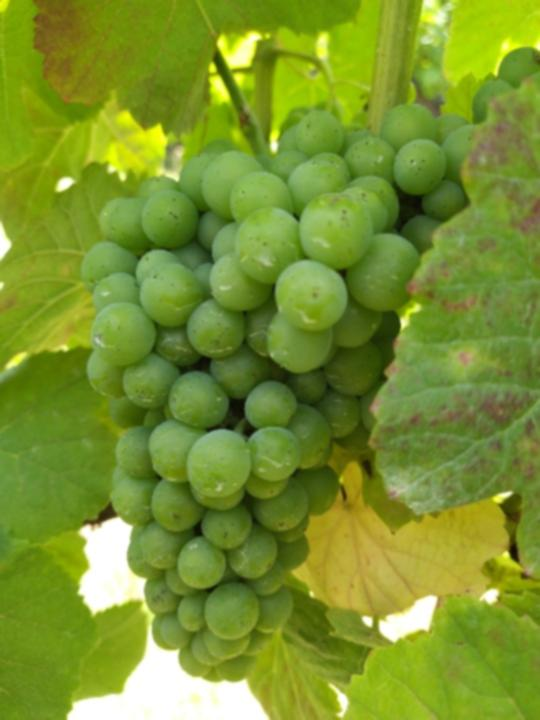grape: (76, 105, 482, 689)
